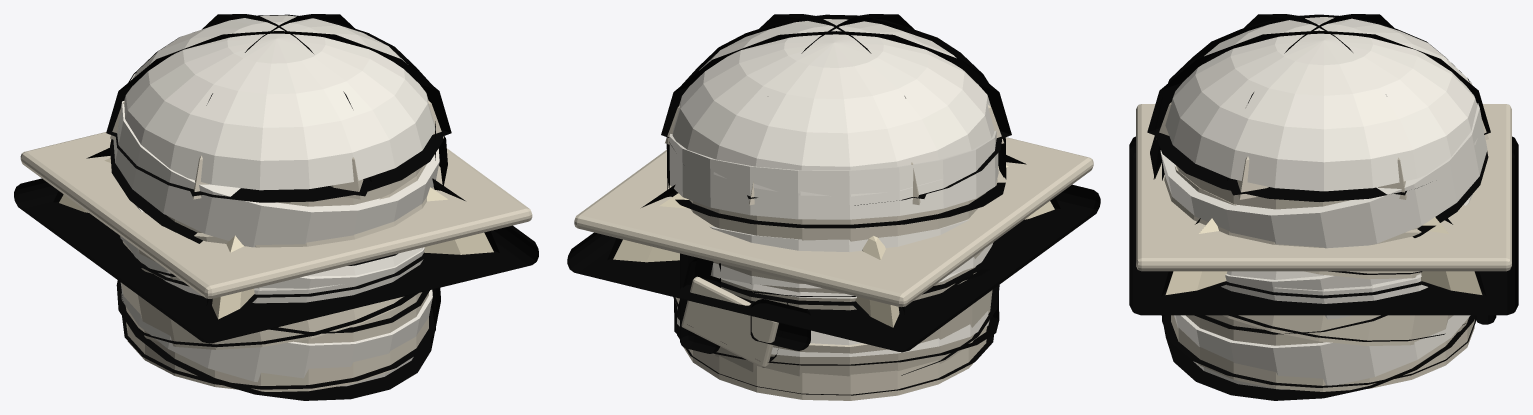
File: Bandages.glb
3 renders of one model, left to right at view 1: azimuth 30°, elevation 25°; view 2: azimuth 150°, elevation 25°; view 3: azimuth 270°, elevation 25°, orthographic. The views are drawn at different scales.
Parts seen in each view (by area): view 1: Bandage_Stump__F1EDE3, Bandage_Socket__D9D1BF, Bandage_Socket__000000, Bandage_Stump__000000, Bandage_Stump__D9D1BF, Bandage_Socket__EDE3C8, Bandage_Socket__F1EDE3; view 2: Bandage_Stump__F1EDE3, Bandage_Socket__D9D1BF, Bandage_Stump__D9D1BF, Bandage_Socket__000000, Bandage_Stump__000000, Bandage_Socket__EDE3C8, Bandage_Socket__F1EDE3; view 3: Bandage_Stump__F1EDE3, Bandage_Socket__D9D1BF, Bandage_Stump__D9D1BF, Bandage_Stump__000000, Bandage_Socket__000000, Bandage_Socket__EDE3C8, Bandage_Socket__F1EDE3.
Boxes of the visible parts, x1,y1,x2,y2 form: Bandage_Stump__F1EDE3: (113,15,439,386); Bandage_Socket__D9D1BF: (20,132,532,298); Bandage_Socket__000000: (14,148,538,343); Bandage_Stump__000000: (106,14,451,400); Bandage_Stump__D9D1BF: (110,100,443,391); Bandage_Socket__EDE3C8: (59,158,493,319); Bandage_Socket__F1EDE3: (120,236,423,290); Bandage_Stump__F1EDE3: (669,19,998,356); Bandage_Socket__D9D1BF: (574,137,1093,306); Bandage_Stump__D9D1BF: (665,104,1003,400); Bandage_Socket__000000: (567,155,1100,352); Bandage_Stump__000000: (661,14,1011,395); Bandage_Socket__EDE3C8: (613,165,1054,327); Bandage_Socket__F1EDE3: (715,243,992,298); Bandage_Stump__F1EDE3: (1160,17,1487,389); Bandage_Socket__D9D1BF: (1136,104,1511,271); Bandage_Stump__D9D1BF: (1159,102,1488,391); Bandage_Stump__000000: (1147,14,1496,400); Bandage_Socket__000000: (1129,136,1518,315); Bandage_Socket__EDE3C8: (1165,217,1482,294); Bandage_Socket__F1EDE3: (1227,271,1421,291).
Size of the model in its own units: 1.35 by 1.2 by 1.35.
